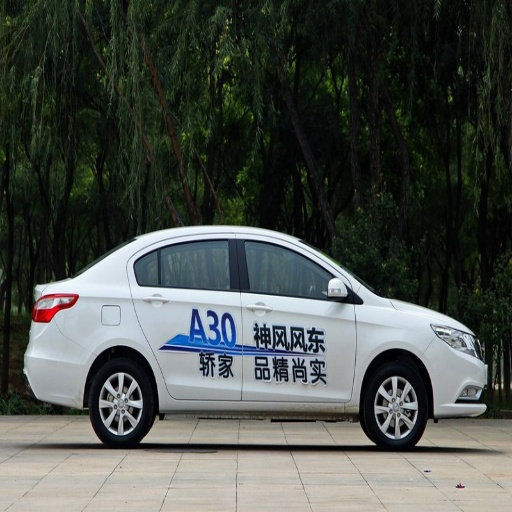back_right_door: (129, 237, 240, 399)
front_right_door: (240, 237, 357, 399)
